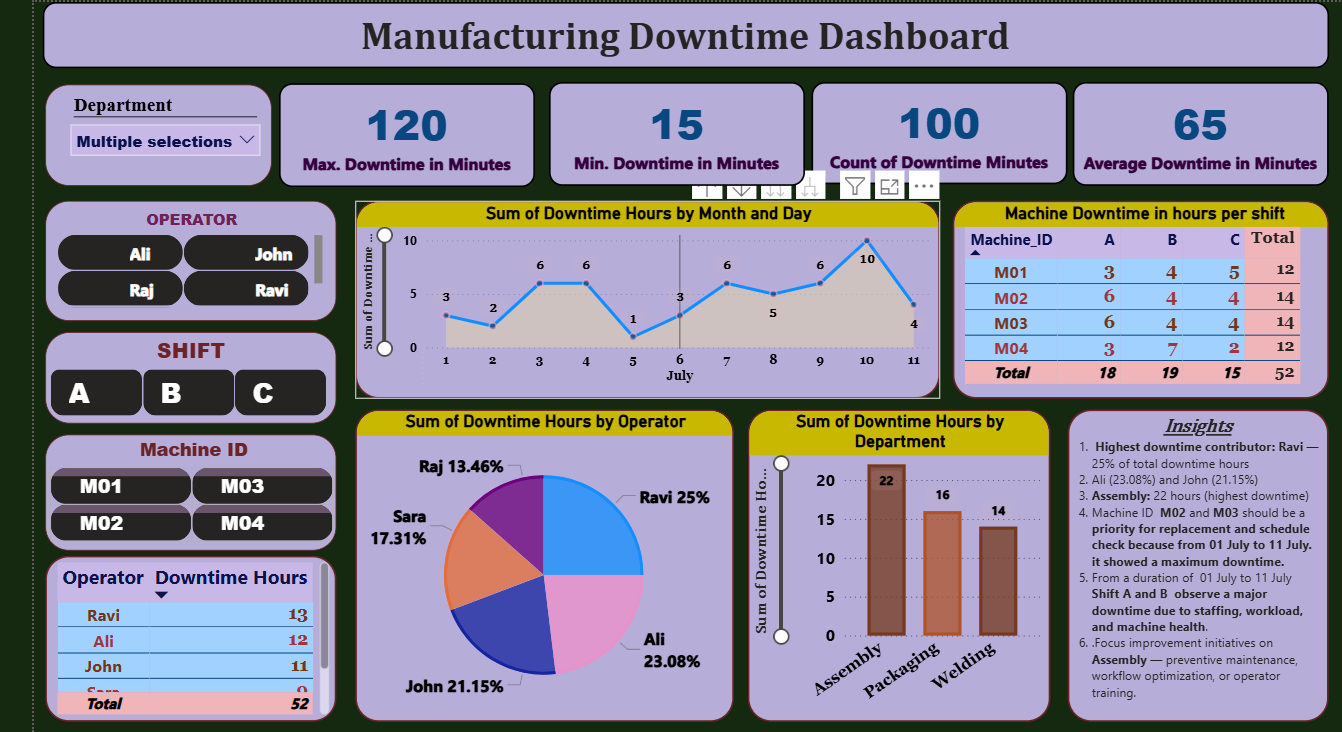

What the dashboard file says about the page in this screenshot:
{"tool":"powerbi","page":{"name":"DOWNTIME","canvas":[1280,720],"ordinal":0},"visuals":[{"type":"card","fields":{"Values":["Downtime Data.Downtime Minutes"]},"box":[760.6,80.7,250.7,100.3],"z":0},{"type":"pieChart","fields":{"Category":["Downtime Data.Operator"],"Y":["Downtime Data.Downtime Hours"]},"box":[314.3,398.6,370.5,305.7],"z":1000},{"type":"card","fields":{"Values":["Downtime Data.DowntimeMinutes"]},"box":[1016.2,78.3,250.7,101.5],"z":2000},{"type":"lineChart","fields":{"Category":["Downtime Data.Downtime_Start.Variation.Date Hierarchy.Month","Downtime Data.Downtime_Start.Variation.Date Hierarchy.Day"],"Y":["Downtime Data.Downtime Hours"]},"box":[314.3,194.4,572.3,193.2],"z":3000},{"type":"card","fields":{"Values":["Downtime Data.DowntimeMinutes"]},"box":[503.8,78.3,250.7,101.5],"z":4000},{"type":"card","fields":{"Values":["Downtime Data.DowntimeMinutes"]},"box":[239.7,79.5,250.7,101.5],"z":5000},{"type":"pivotTable","title":"Machine Downtime in hours per shift","fields":{"Rows":["Downtime Data.Machine_ID"],"Columns":["Downtime Data.Shift"],"Values":["Downtime Data.Downtime Hours"]},"box":[898.8,194.4,368.1,193.2],"z":6000},{"type":"columnChart","fields":{"Y":["Downtime Data.Downtime Hours"],"Category":["Downtime Data.Department"]},"box":[698.2,398.6,295.9,305.7],"z":7000},{"type":"slicer","fields":{"Values":["Downtime Data.Department"]},"box":[11,80.7,221.3,99],"z":8000},{"type":"advancedSlicerVisual","title":"SHIFT","fields":{"Values":["Downtime Data.Shift"]},"box":[11,322.8,284.9,89.3],"z":9000},{"type":"advancedSlicerVisual","fields":{"Values":["Downtime Data.Machine_ID"]},"box":[11,423.1,284.9,113.7],"z":10000},{"type":"advancedSlicerVisual","title":"OPERATOR","fields":{"Values":["Downtime Data.Operator"]},"box":[11,194.4,284.9,117.4],"z":11000},{"type":"textbox","box":[8.6,0,1258.3,64.8],"z":12000},{"type":"pivotTable","fields":{"Rows":["Downtime Data.Operator"],"Values":["Downtime Data.Downtime Hours"]},"box":[11,541.7,284.9,162.6],"z":13000},{"type":"textbox","box":[1011.3,398.6,255.6,305.7],"z":14000}]}

Visuals, with their boxes in screenshot pixels (x1, y1, x2, y2):
card - Downtime Data.Downtime Minutes: region(817, 81, 1068, 181)
pieChart - Downtime Data.Operator x Downtime Data.Downtime Hours: region(370, 399, 741, 705)
card - Downtime Data.DowntimeMinutes: region(1073, 78, 1323, 180)
lineChart - Downtime Data.Downtime_Start.Variation.Date Hierarchy.Month x Downtime Data.Downtime_Start.Variation.Date Hierarchy.Day: region(370, 194, 943, 388)
card - Downtime Data.DowntimeMinutes: region(560, 78, 811, 180)
card - Downtime Data.DowntimeMinutes: region(296, 80, 547, 181)
"Machine Downtime in hours per shift" pivotTable: region(955, 194, 1323, 388)
columnChart - Downtime Data.Downtime Hours x Downtime Data.Department: region(754, 399, 1050, 705)
slicer - Downtime Data.Department: region(67, 81, 288, 180)
"SHIFT" advancedSlicerVisual: region(67, 323, 352, 412)
advancedSlicerVisual - Downtime Data.Machine_ID: region(67, 423, 352, 537)
"OPERATOR" advancedSlicerVisual: region(67, 194, 352, 312)
textbox: region(65, 0, 1323, 65)
pivotTable - Downtime Data.Operator x Downtime Data.Downtime Hours: region(67, 542, 352, 705)
textbox: region(1068, 399, 1323, 705)
